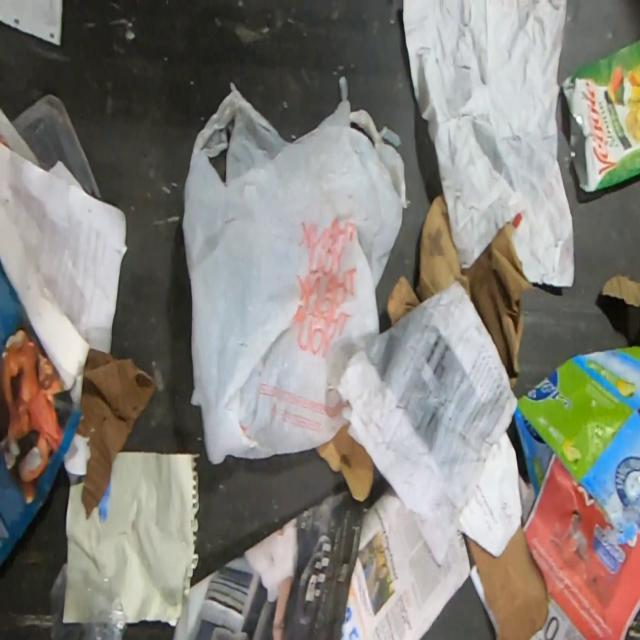cardboard: (387, 192, 531, 388), (515, 344, 640, 548), (75, 348, 156, 522), (466, 523, 548, 639), (602, 276, 640, 311)
rigid_plastic: (11, 94, 105, 202), (50, 564, 128, 639)
soft_plastic: (180, 78, 408, 465), (560, 40, 640, 196)
